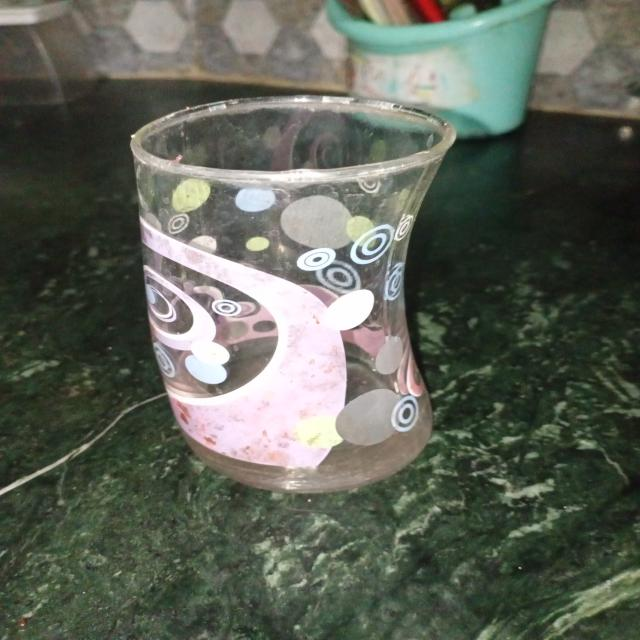Glass: (125, 88, 461, 497)
